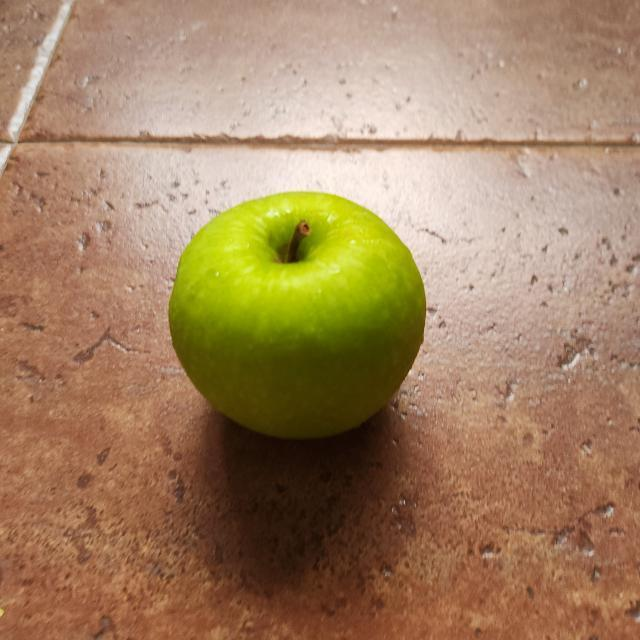apple: (166, 182, 434, 447)
